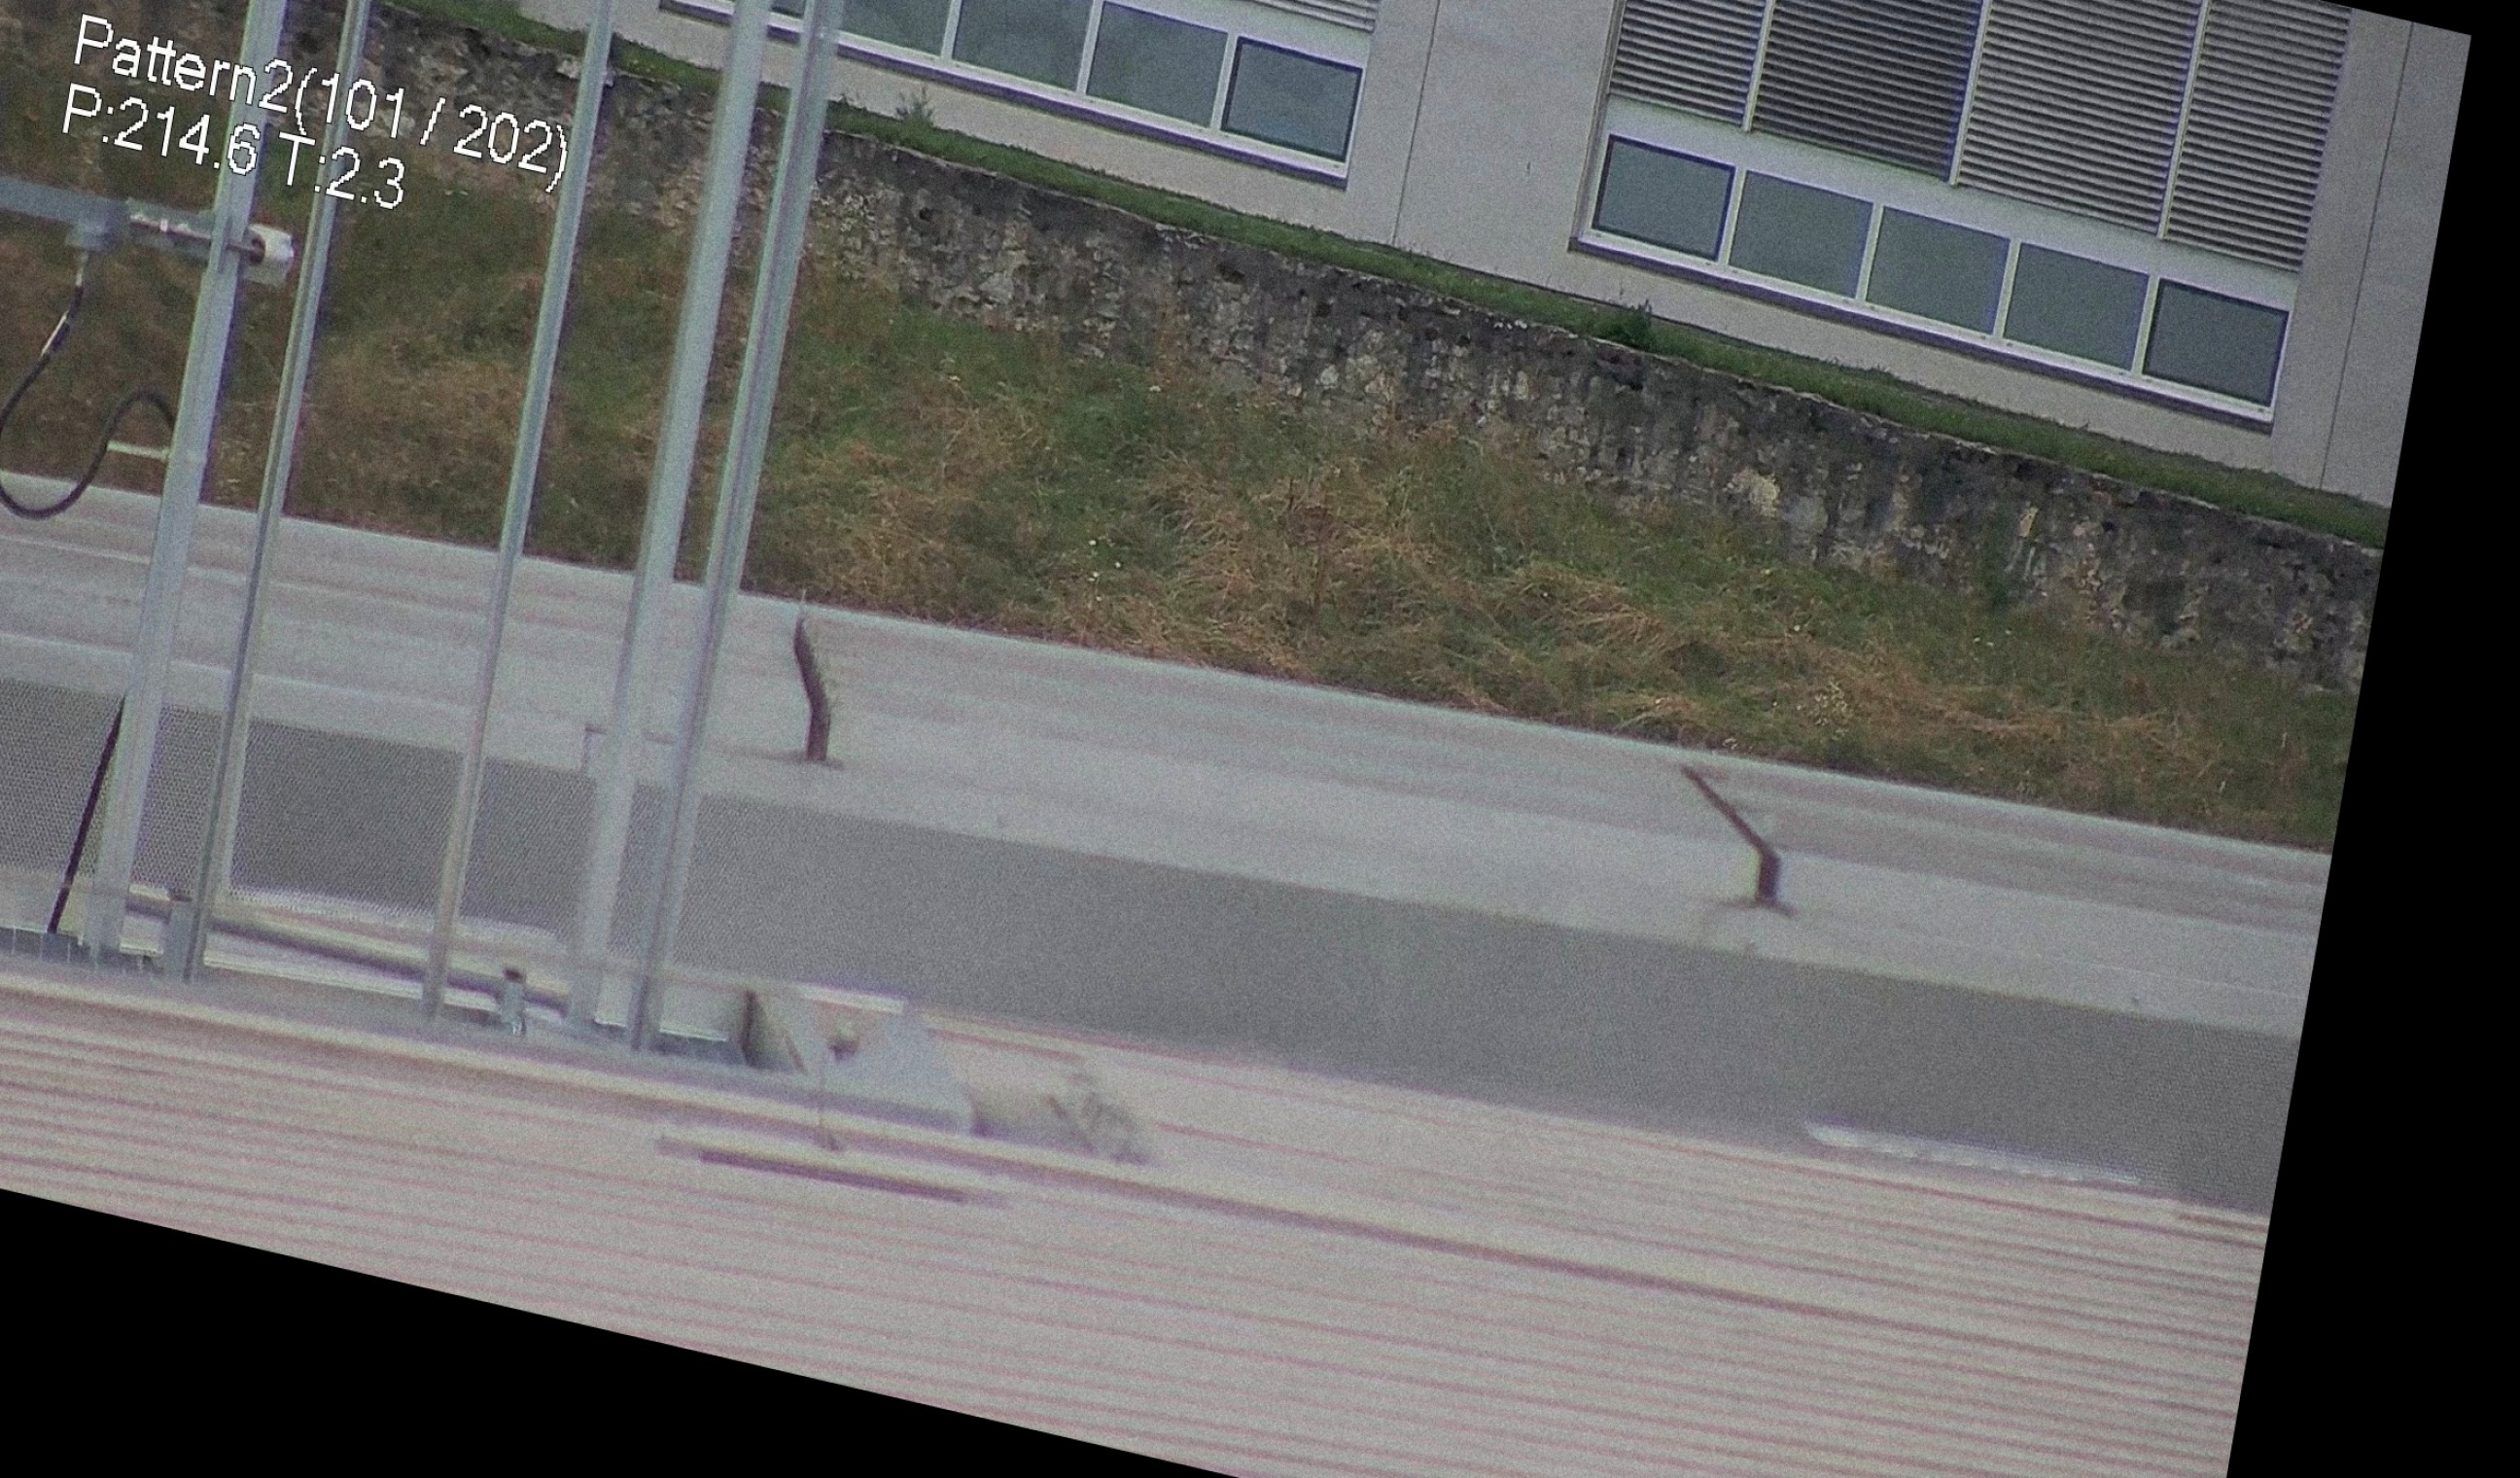Other: (749, 588, 869, 779)
